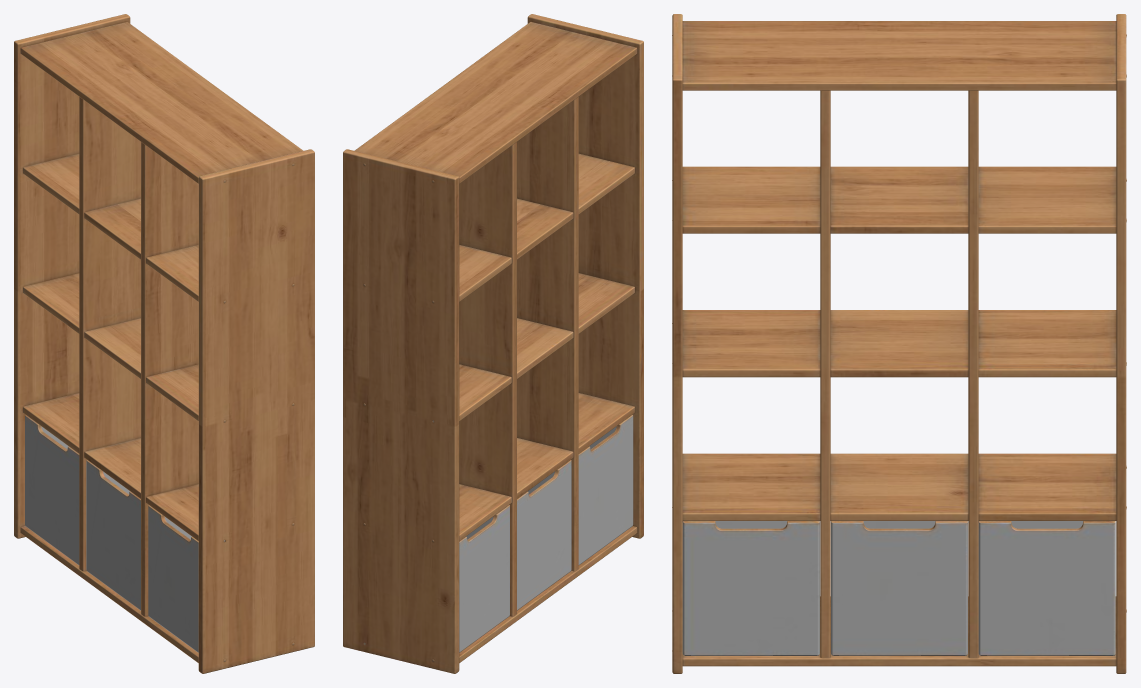
File: wooden_display_shelves_01.glb
The picture shows the model from 3 angles, left to right: view 1: azimuth 30°, elevation 25°; view 2: azimuth 150°, elevation 25°; view 3: azimuth 270°, elevation 25°; orthographic projection. The views are drawn at different scales.
Parts seen in each view (by area): view 1: wooden_display_shelves_01, wooden_display_shelves_01_drawer_02, wooden_display_shelves_01_drawer_01, wooden_display_shelves_01_drawer_03; view 2: wooden_display_shelves_01, wooden_display_shelves_01_drawer_03, wooden_display_shelves_01_drawer_02, wooden_display_shelves_01_drawer_01; view 3: wooden_display_shelves_01, wooden_display_shelves_01_drawer_03, wooden_display_shelves_01_drawer_01, wooden_display_shelves_01_drawer_02.
Boxes of the visible parts, box(x1,y1,x2,y2) form: wooden_display_shelves_01: box(14, 14, 314, 673); wooden_display_shelves_01_drawer_02: box(86, 460, 140, 610); wooden_display_shelves_01_drawer_01: box(25, 415, 79, 565); wooden_display_shelves_01_drawer_03: box(148, 505, 198, 652); wooden_display_shelves_01: box(343, 14, 643, 673); wooden_display_shelves_01_drawer_03: box(578, 415, 633, 565); wooden_display_shelves_01_drawer_02: box(517, 460, 571, 610); wooden_display_shelves_01_drawer_01: box(459, 505, 509, 652); wooden_display_shelves_01: box(672, 14, 1126, 673); wooden_display_shelves_01_drawer_03: box(682, 521, 819, 655); wooden_display_shelves_01_drawer_01: box(978, 521, 1115, 655); wooden_display_shelves_01_drawer_02: box(831, 521, 967, 655).
Size of the model in its own units: 0.3715 by 1.56 by 1.08.
1 material, 1 textured.
